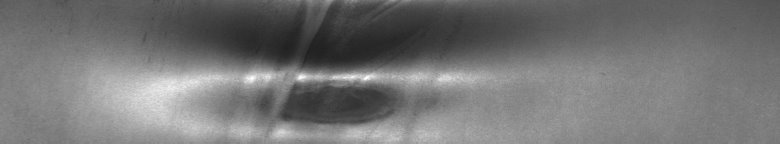ke: (143, 4, 486, 136)
